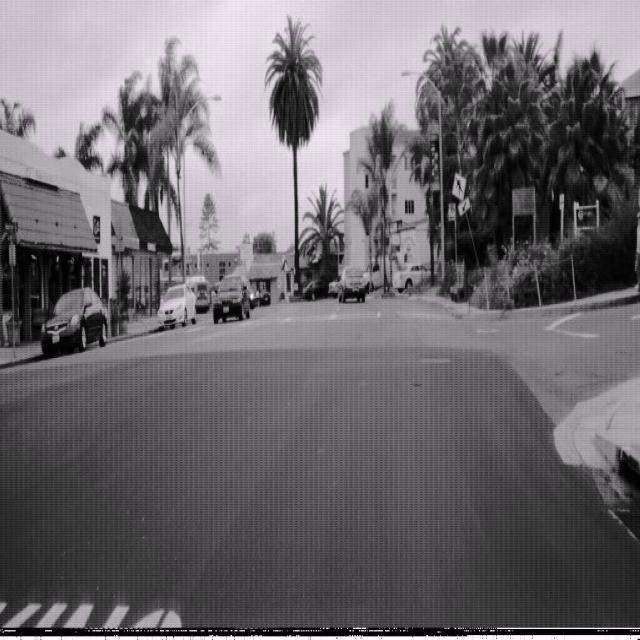pedestrianCrossing: (452, 172, 466, 201)
